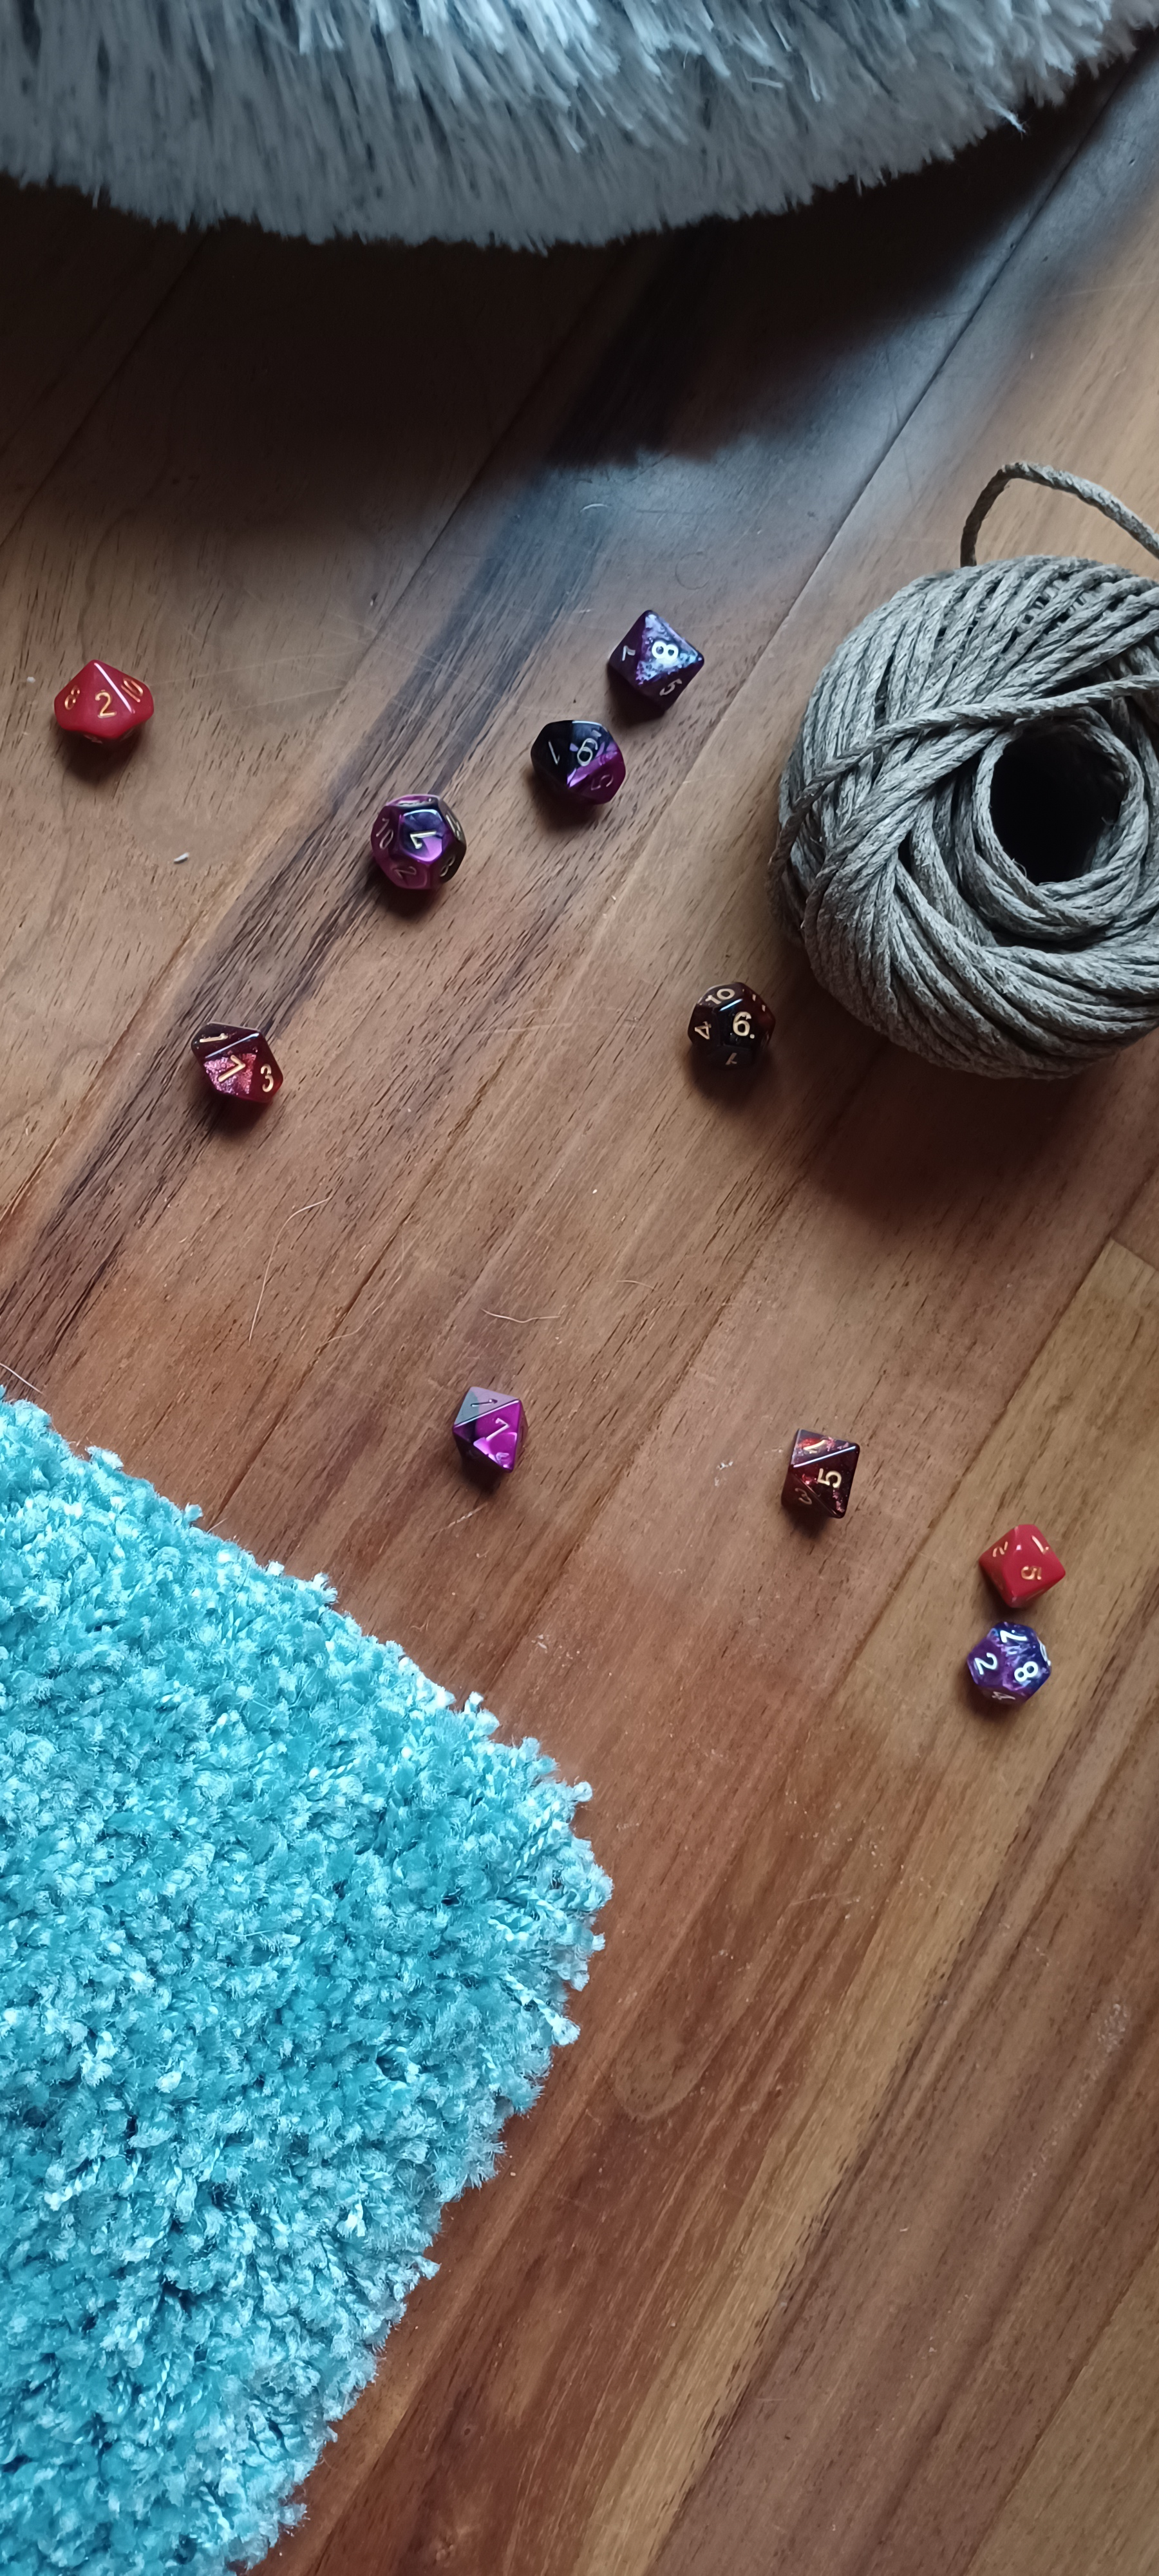eight: (583, 585, 717, 724), (941, 1608, 1077, 1722)
five: (745, 1410, 893, 1541), (954, 1508, 1088, 1621)
nine: (501, 703, 648, 833)
seven: (338, 787, 486, 913), (177, 997, 307, 1135), (428, 1364, 560, 1490)
six: (645, 958, 803, 1097)
two: (34, 641, 177, 761)
